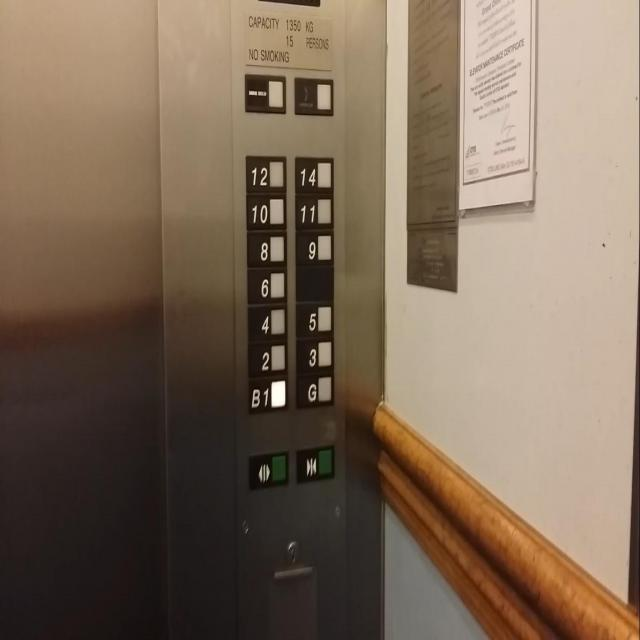10: (245, 192, 287, 232)
11: (294, 190, 334, 232)
12: (245, 154, 287, 193)
14: (293, 154, 334, 197)
2: (247, 338, 288, 379)
3: (295, 333, 336, 375)
4: (246, 300, 288, 343)
5: (294, 296, 335, 338)
6: (246, 263, 287, 307)
8: (245, 228, 287, 266)
9: (294, 226, 335, 268)
B1: (248, 373, 288, 415)
G: (295, 368, 336, 411)
close: (295, 443, 336, 486)
keyhole: (288, 542, 298, 563)
open: (247, 448, 288, 491)
text: (243, 71, 286, 115), (293, 74, 334, 117)
